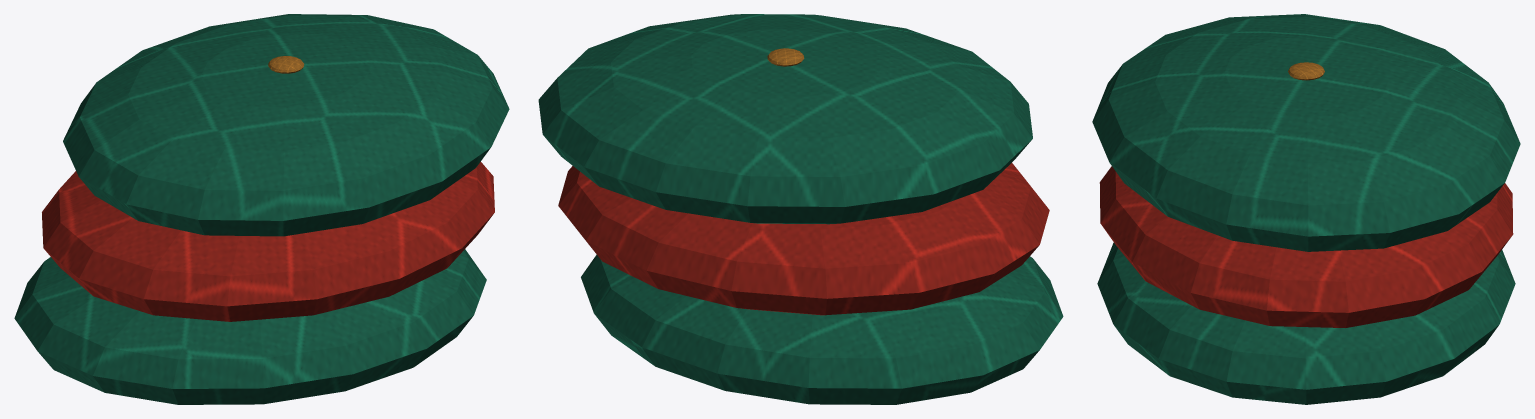
Rendered from cushion_stack.glb.
3 renders of one model, left to right at view 1: azimuth 30°, elevation 25°; view 2: azimuth 150°, elevation 25°; view 3: azimuth 270°, elevation 25°, orthographic. The views are drawn at different scales.
Parts seen in each view (by area): view 1: cushion_stack_Silk, cushion_stack_Brocade, cushion_stack_Brass; view 2: cushion_stack_Silk, cushion_stack_Brocade, cushion_stack_Brass; view 3: cushion_stack_Silk, cushion_stack_Brocade, cushion_stack_Brass.
Boxes of the visible parts, box(x1,y1,x2,y2) form: cushion_stack_Silk: box(14, 14, 509, 404); cushion_stack_Brocade: box(42, 161, 494, 321); cushion_stack_Brass: box(268, 56, 304, 73); cushion_stack_Silk: box(538, 14, 1063, 404); cushion_stack_Brocade: box(558, 163, 1049, 315); cushion_stack_Brass: box(767, 48, 804, 66); cushion_stack_Silk: box(1092, 14, 1520, 404); cushion_stack_Brocade: box(1099, 166, 1513, 327); cushion_stack_Brass: box(1288, 62, 1324, 80).
Size of the model in its own units: 1.16 by 0.702 by 0.9217.
3 materials, 3 textured.
